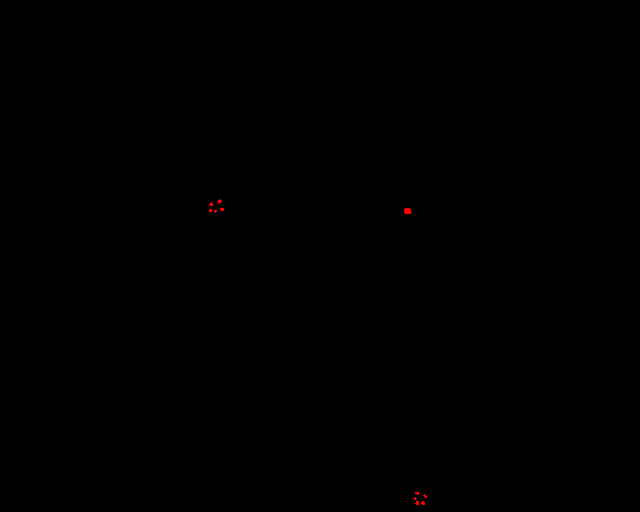Target: (404, 208, 412, 214), (217, 199, 222, 204), (209, 202, 213, 206), (423, 494, 427, 498), (415, 501, 419, 505), (421, 501, 425, 505), (220, 208, 224, 211), (415, 492, 419, 495), (209, 209, 212, 212), (214, 210, 217, 213), (414, 497, 417, 500)
